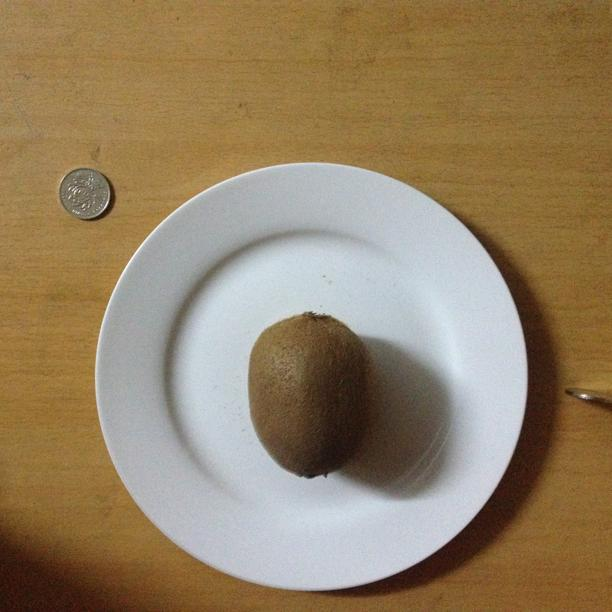coin: (55, 166, 113, 220)
qiwi: (247, 314, 365, 478)
